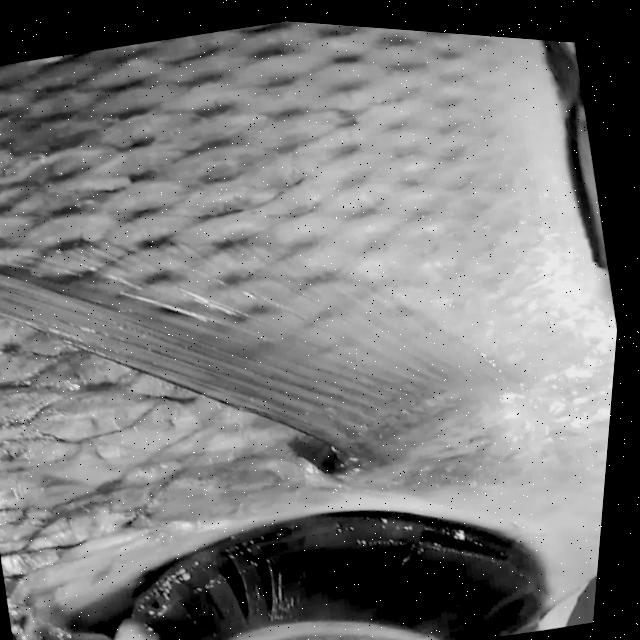Fresh: (11, 386, 615, 640)
